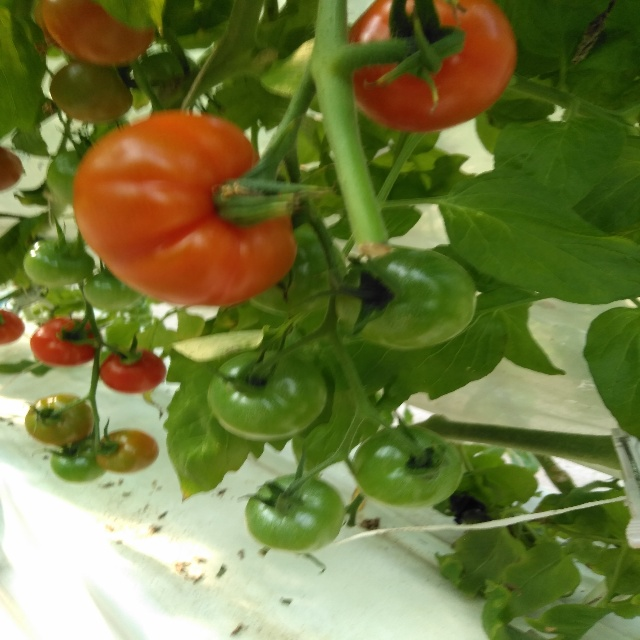l_fully_ripened: (73, 110, 297, 306), (348, 0, 518, 132), (29, 317, 103, 368), (99, 347, 167, 395), (0, 148, 23, 192), (0, 309, 25, 346)
l_green: (335, 247, 477, 349), (208, 350, 327, 441), (352, 426, 464, 508), (246, 225, 347, 315), (245, 473, 345, 552), (50, 61, 133, 123), (23, 239, 94, 287), (83, 269, 143, 311), (52, 439, 108, 484), (47, 150, 90, 205)
l_half_ripened: (41, 0, 156, 65), (25, 392, 94, 447), (95, 428, 159, 473)
